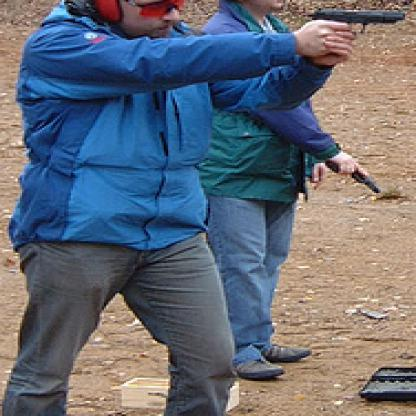gun: (296, 0, 410, 60), (308, 133, 392, 206)
